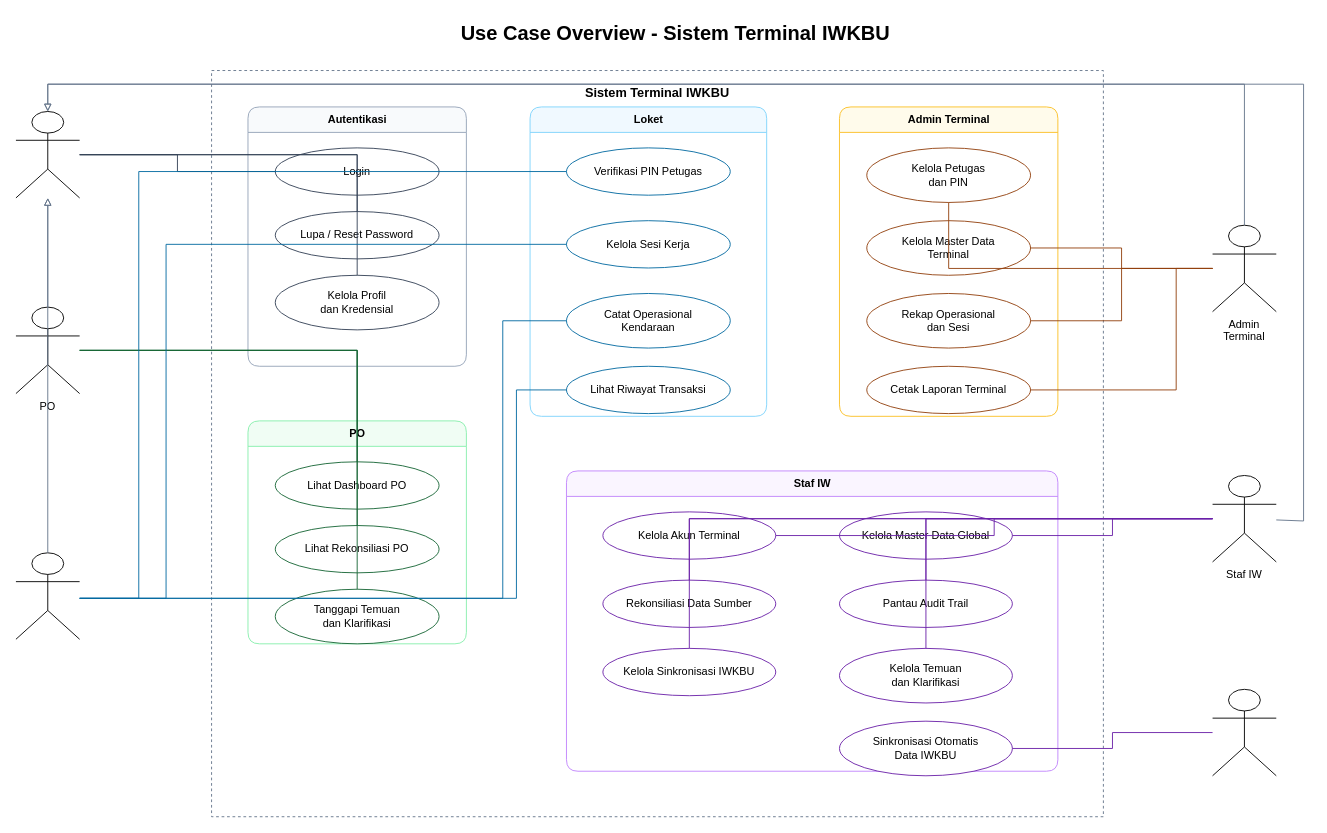
The diagram is 1327 pixels wide and 833 high, and some of its shapes have lost their labels. Here are the shapes that lost their labels. From the top down, the centre of each, then its label:
At [47,154]: "Pengguna".
At [47,595]: "Petugas Loket".
At [1244,732]: "Scheduler Cron".
